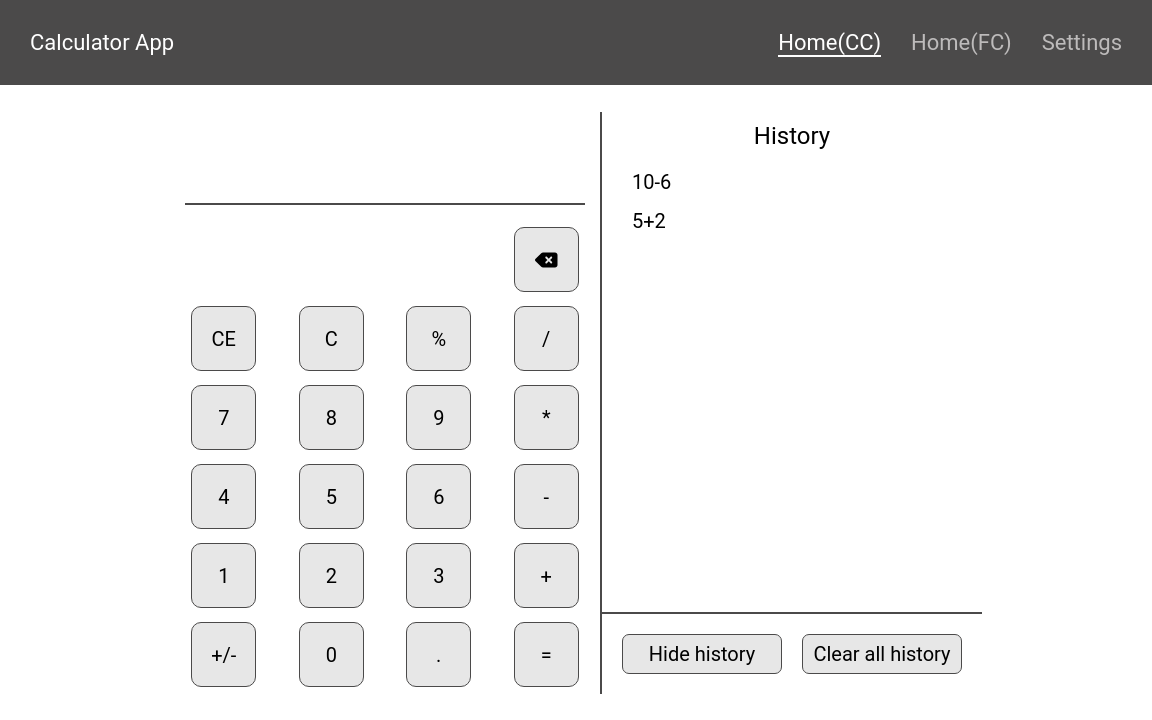
it: Home CC E2E › should delete last digit of value after pressing Del
The image size is (1152, 720).
Click the text with test id "btn8". click: (332,418)
box: [299, 385, 364, 450]
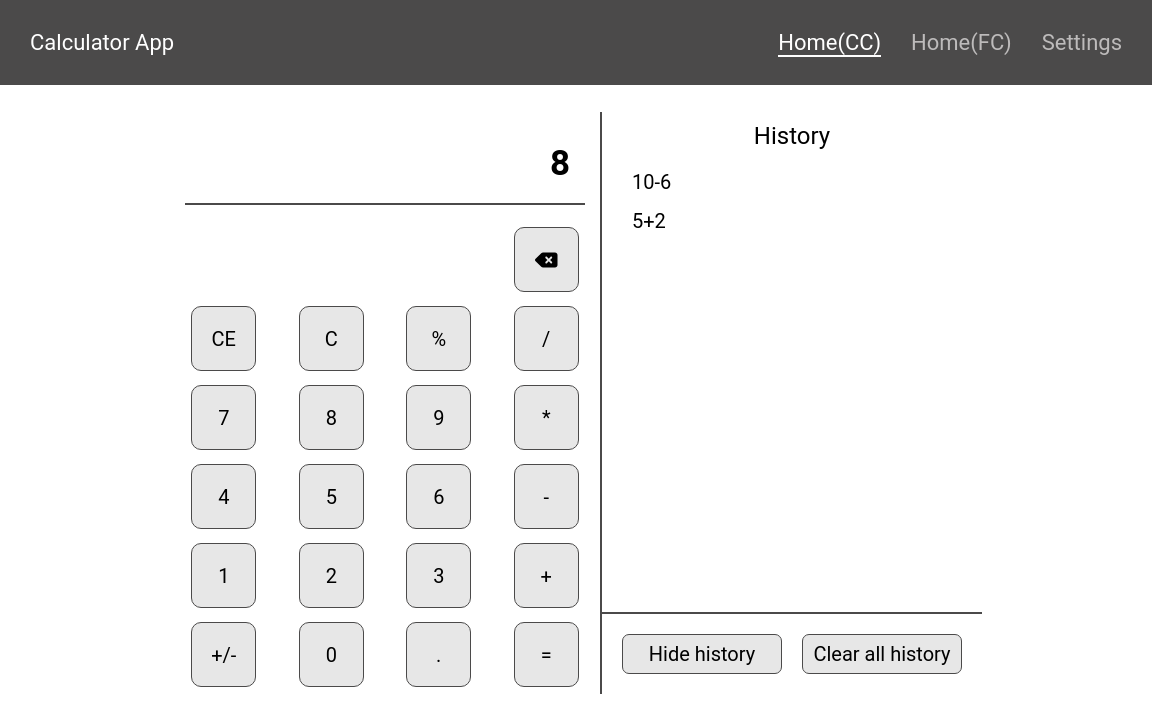
Click the text with test id "btn3". click: (439,576)
box: [406, 543, 471, 608]
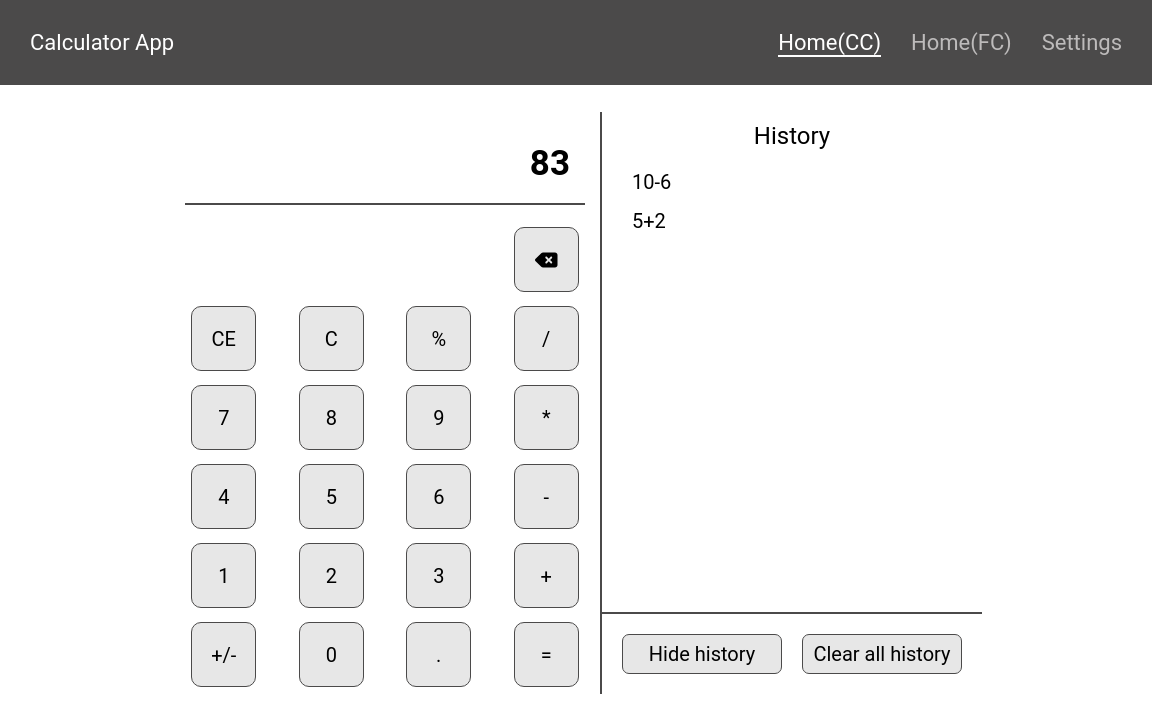
Click the element with test id "btnDel". click: (547,260)
box: [514, 227, 579, 292]
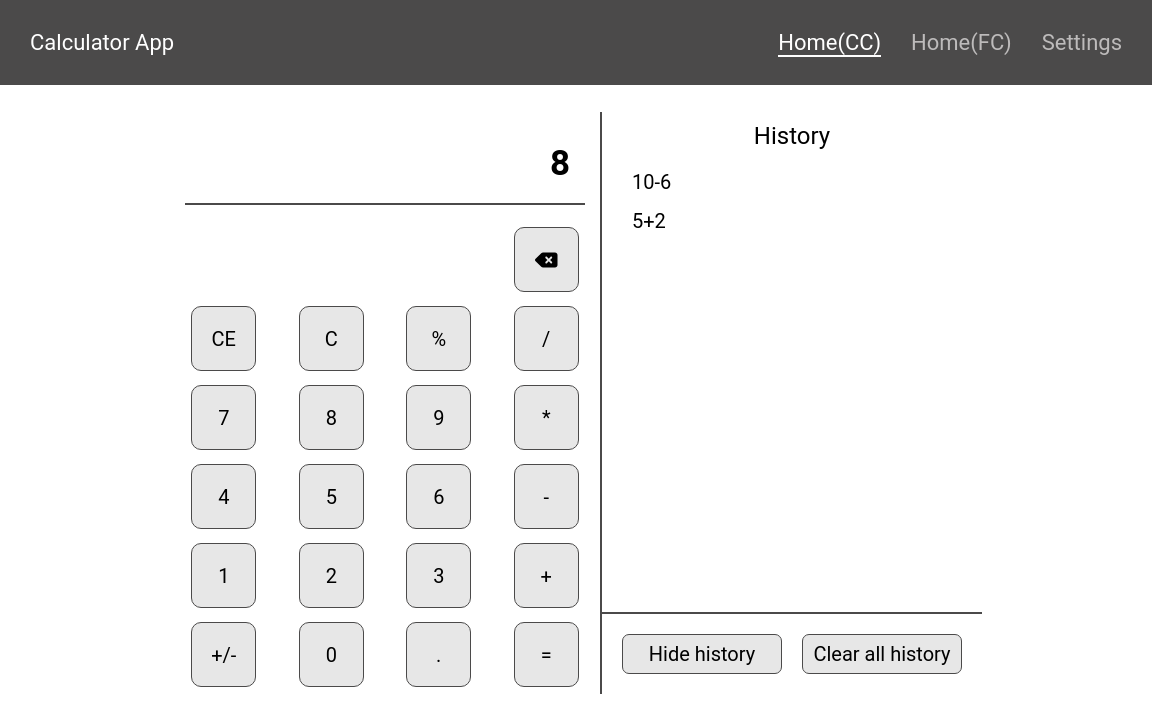
expect the text with test id "displayInput" reads "8": met, box [550, 143, 570, 184]
